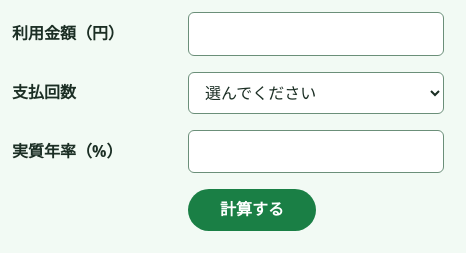
Scenario: 大きな桁の利用金額も、丸めずにカンマを付け、カンマを取り除いて送る（数に変えない）
Type "12345678901234567890" into the field labelled "利用金額（円）" at (316, 34), box top-left (188, 12), bottom-right (444, 56)
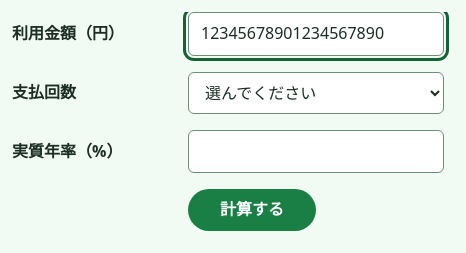
Click the button "計算する" at (252, 210), box top-left (188, 189), bottom-right (316, 231)
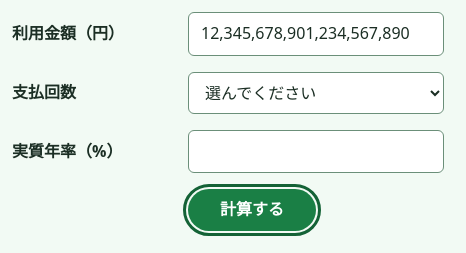
Expected: the field labelled "利用金額（円）" holds "12,345,678,901,234,567,890", top-left (188, 12), bottom-right (444, 56)
